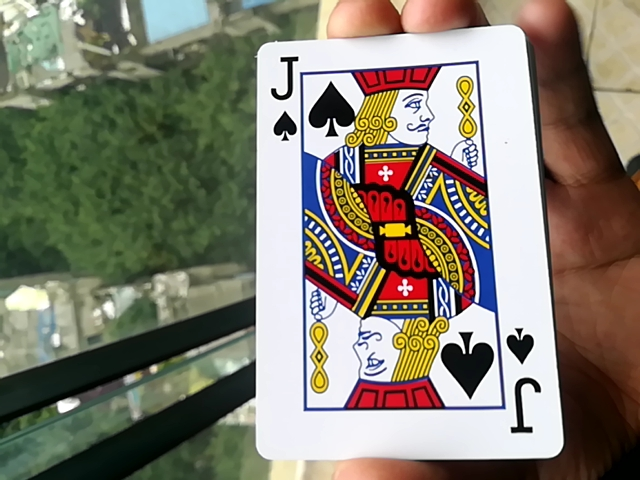ht j: (239, 39, 567, 456)
